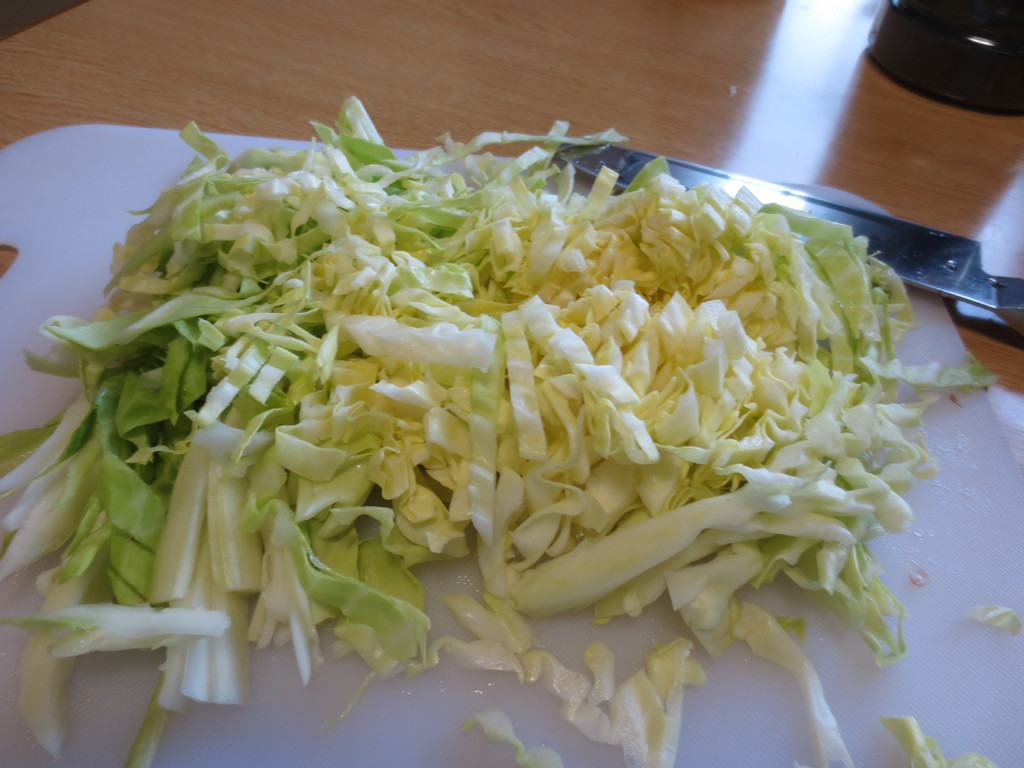Cabbage: (0, 95, 1024, 766)
